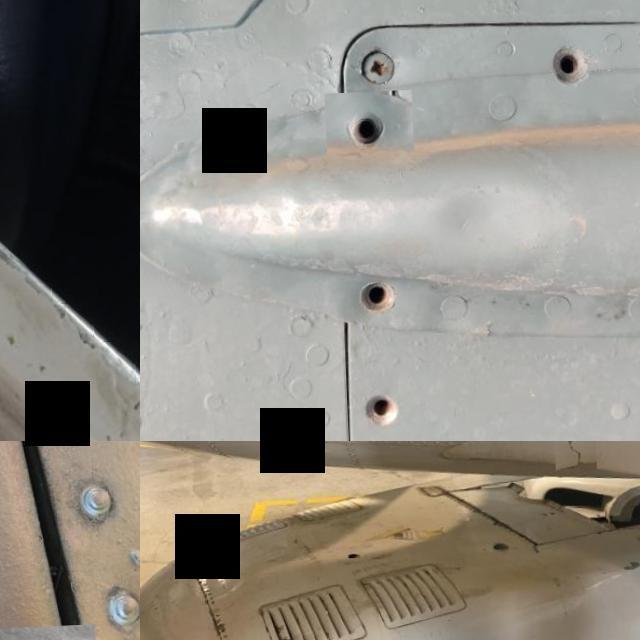Crack: (550, 441, 593, 477)
Missing_Fastener: (513, 21, 618, 118), (325, 254, 421, 345), (322, 93, 412, 177), (335, 369, 417, 441)
